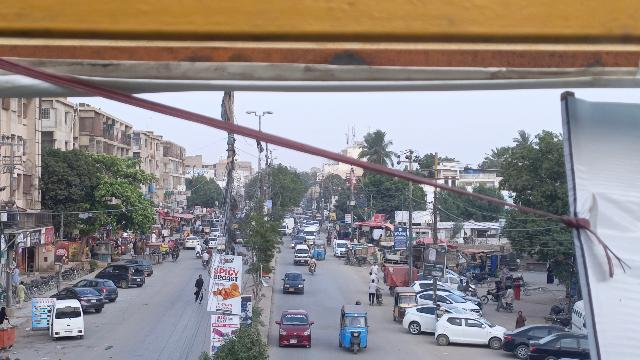Bike: (480, 289, 498, 304), (495, 300, 514, 312), (375, 285, 385, 307), (308, 263, 316, 276), (172, 251, 177, 263), (203, 260, 208, 270)
Car: (435, 311, 505, 350), (501, 321, 561, 356), (527, 332, 590, 360), (402, 300, 446, 337), (47, 285, 105, 313), (274, 309, 315, 348), (418, 290, 477, 313), (97, 261, 146, 287), (72, 277, 121, 300), (281, 270, 306, 296)
Person: (194, 272, 206, 305), (14, 279, 27, 309), (366, 279, 377, 306), (512, 309, 527, 328), (368, 261, 380, 278), (0, 304, 10, 324), (505, 285, 516, 301), (499, 286, 508, 300), (369, 272, 378, 284), (498, 280, 506, 292), (493, 280, 500, 293), (308, 255, 317, 265), (201, 250, 210, 260), (171, 245, 179, 252)
Rickshaw: (337, 304, 370, 357), (391, 286, 418, 323), (312, 239, 327, 260)
Van: (49, 299, 84, 339), (292, 244, 312, 267)
